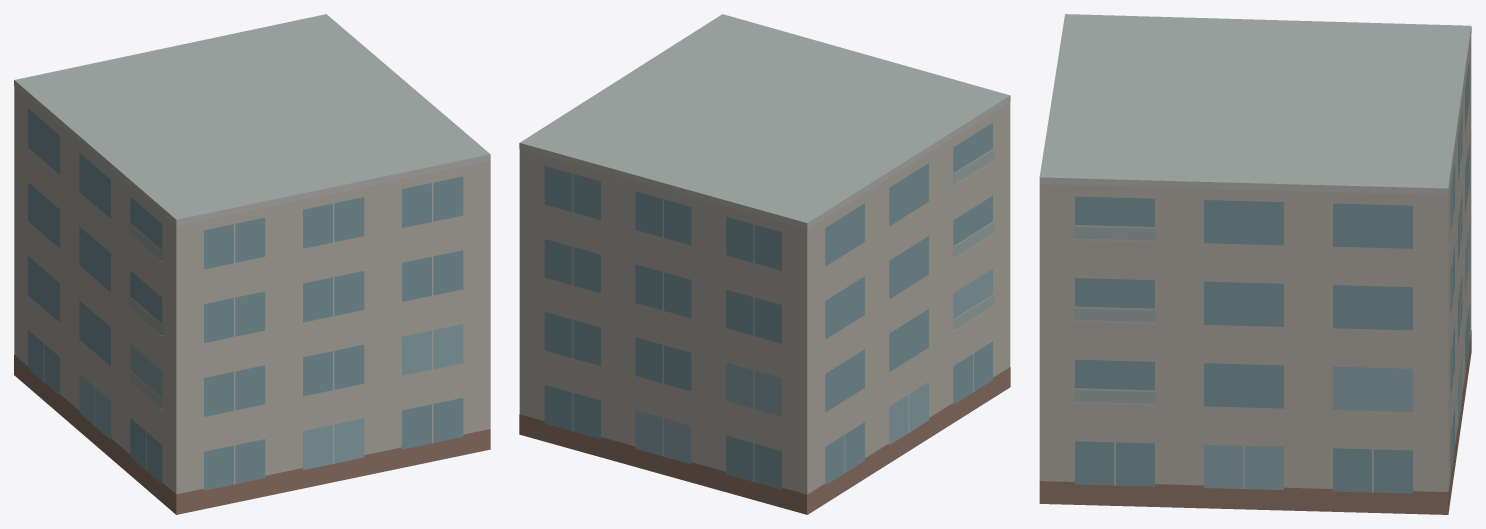
Rendered from survey-upis-32548468.glb.
The picture shows the model from 3 angles, left to right: view 1: azimuth 30°, elevation 25°; view 2: azimuth 150°, elevation 25°; view 3: azimuth 270°, elevation 25°; orthographic projection. The views are drawn at different scales.
Visible parts, largest first — view 1: survey-upis-32548468.tmp; view 2: survey-upis-32548468.tmp; view 3: survey-upis-32548468.tmp.
Boxes of the visible parts, x1,y1,x2,y2 form: survey-upis-32548468.tmp: [14, 14, 490, 514]; survey-upis-32548468.tmp: [519, 14, 1010, 514]; survey-upis-32548468.tmp: [1039, 14, 1471, 514].
Size of the model in its own units: 13.37 by 11.65 by 13.98.
